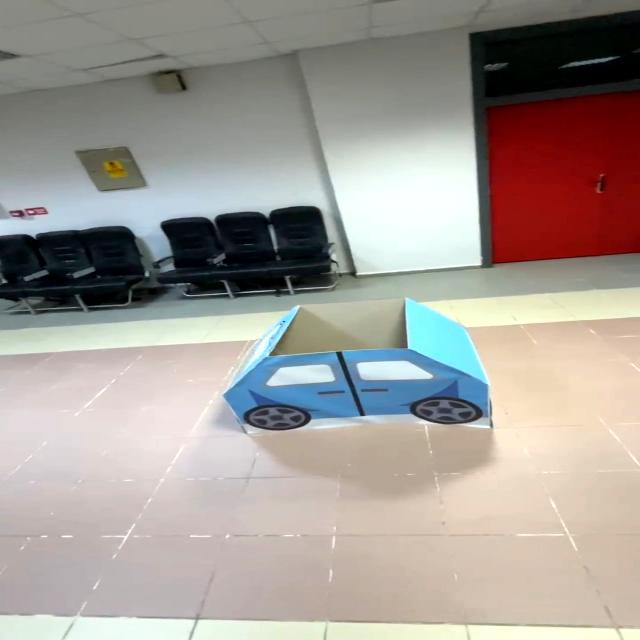blue_car: (207, 294, 524, 465)
